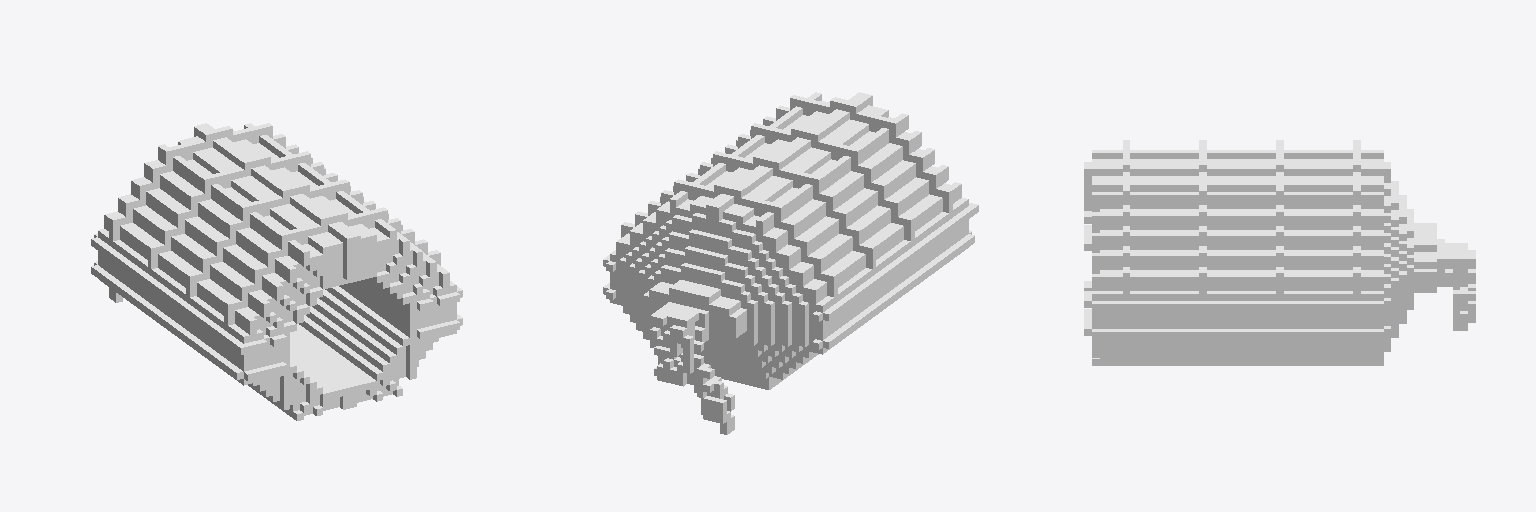
Rendered from MejoraKanyon-1.obj.
3 views of the same model, side by side, from view 1: azimuth 30°, elevation 25°; view 2: azimuth 150°, elevation 25°; view 3: azimuth 270°, elevation 25° (orthographic).
Parts seen in each view (by area): view 1: object 1; view 2: object 1; view 3: object 1.
Part boxes in pixels (x1,y1,x2,y2): object 1: (91,123,462,420); object 1: (603,92,978,434); object 1: (1084,140,1475,365).
Bounding box in the file's own units: 3.4 × 2.8 × 5.1.